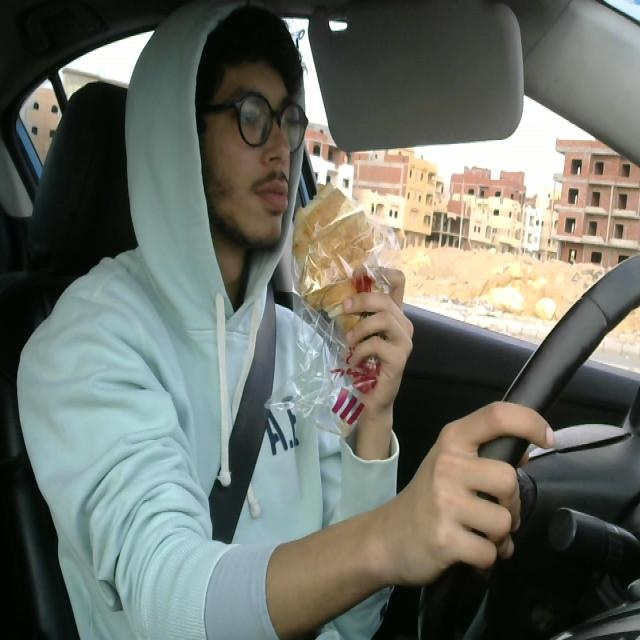eating: (288, 177, 391, 353)
